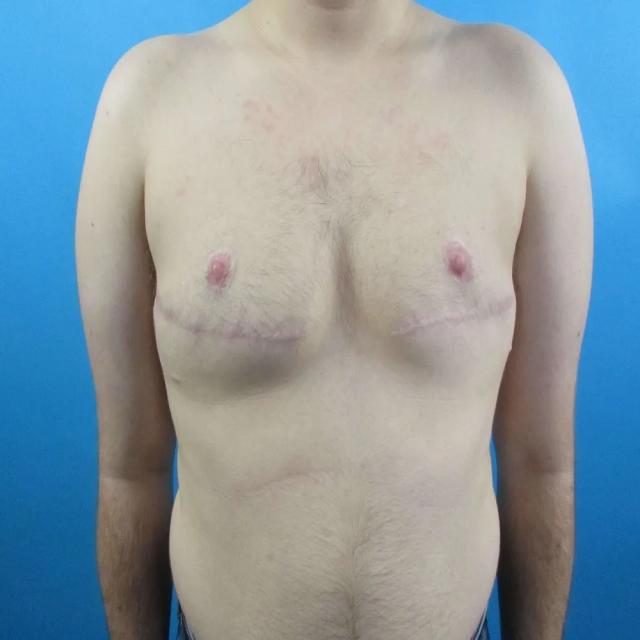Seno herido: (147, 205, 331, 390), (346, 203, 522, 390)
